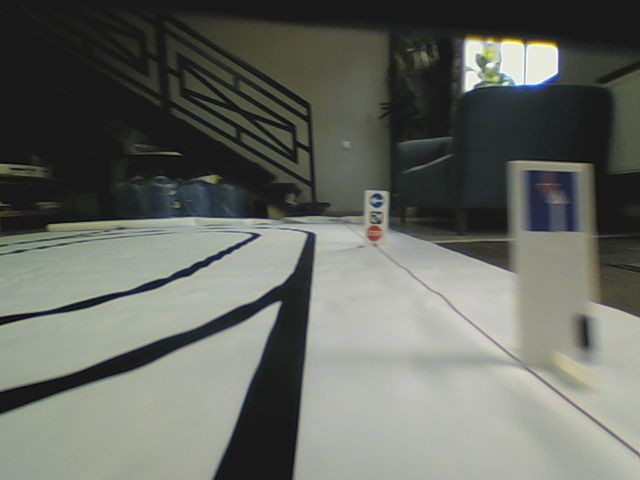priority_movement: (522, 167, 583, 234)
